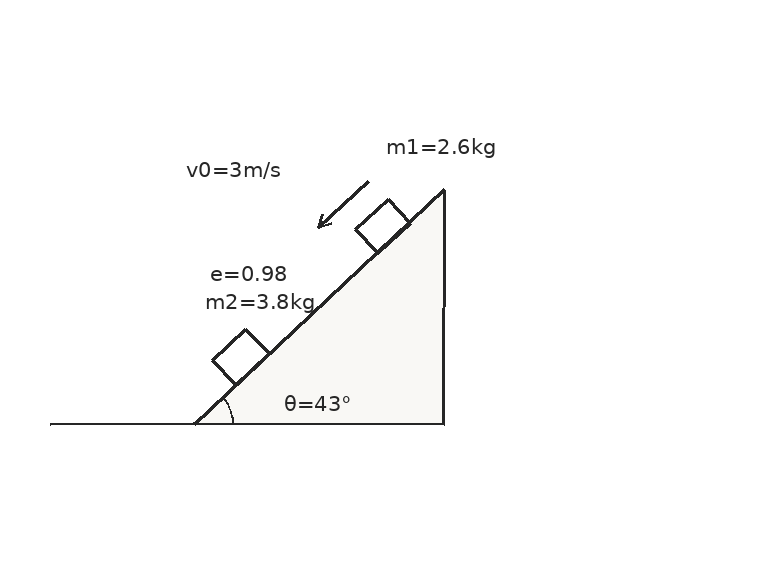block: (210, 326, 271, 387), (353, 197, 411, 254)
ramp: (191, 188, 446, 426)
